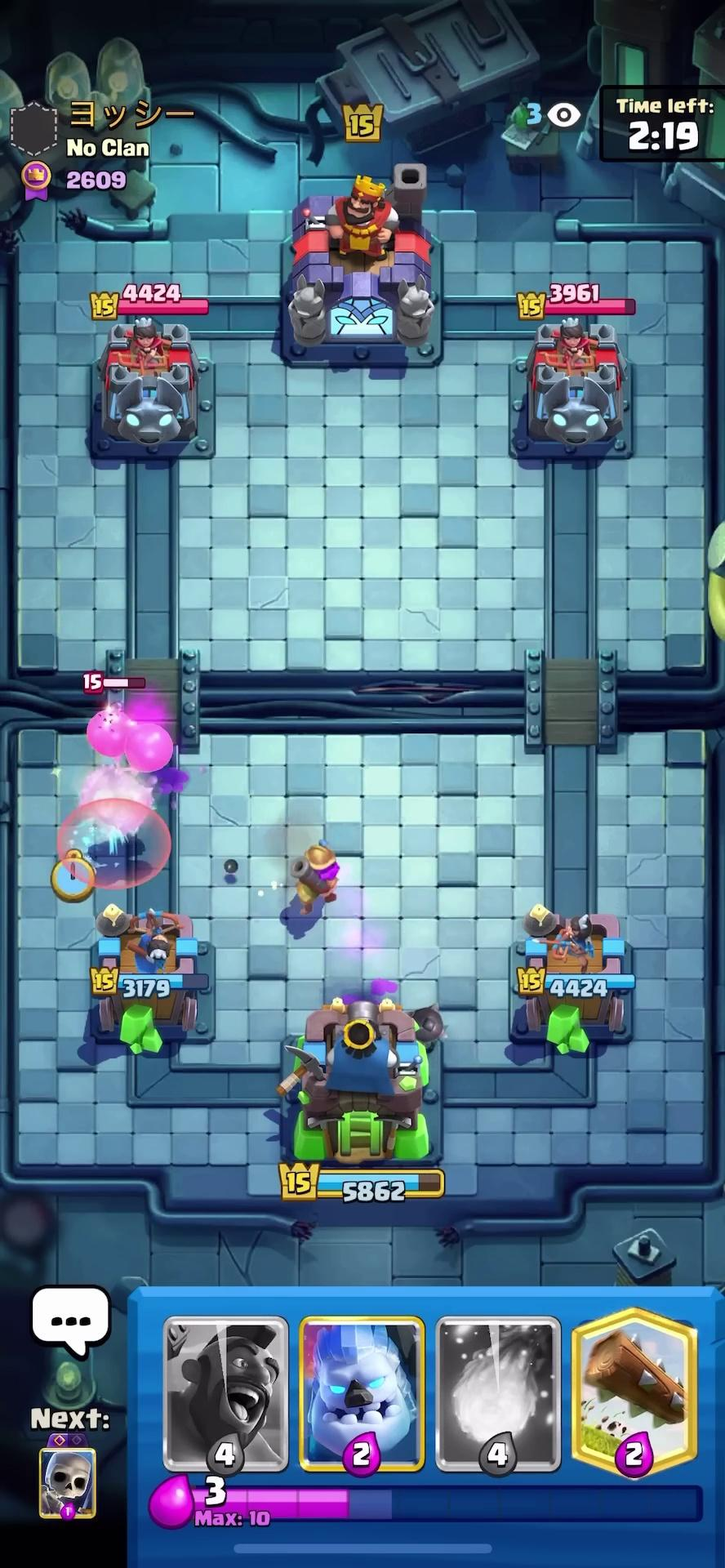musketeer: (290, 837, 351, 917)
